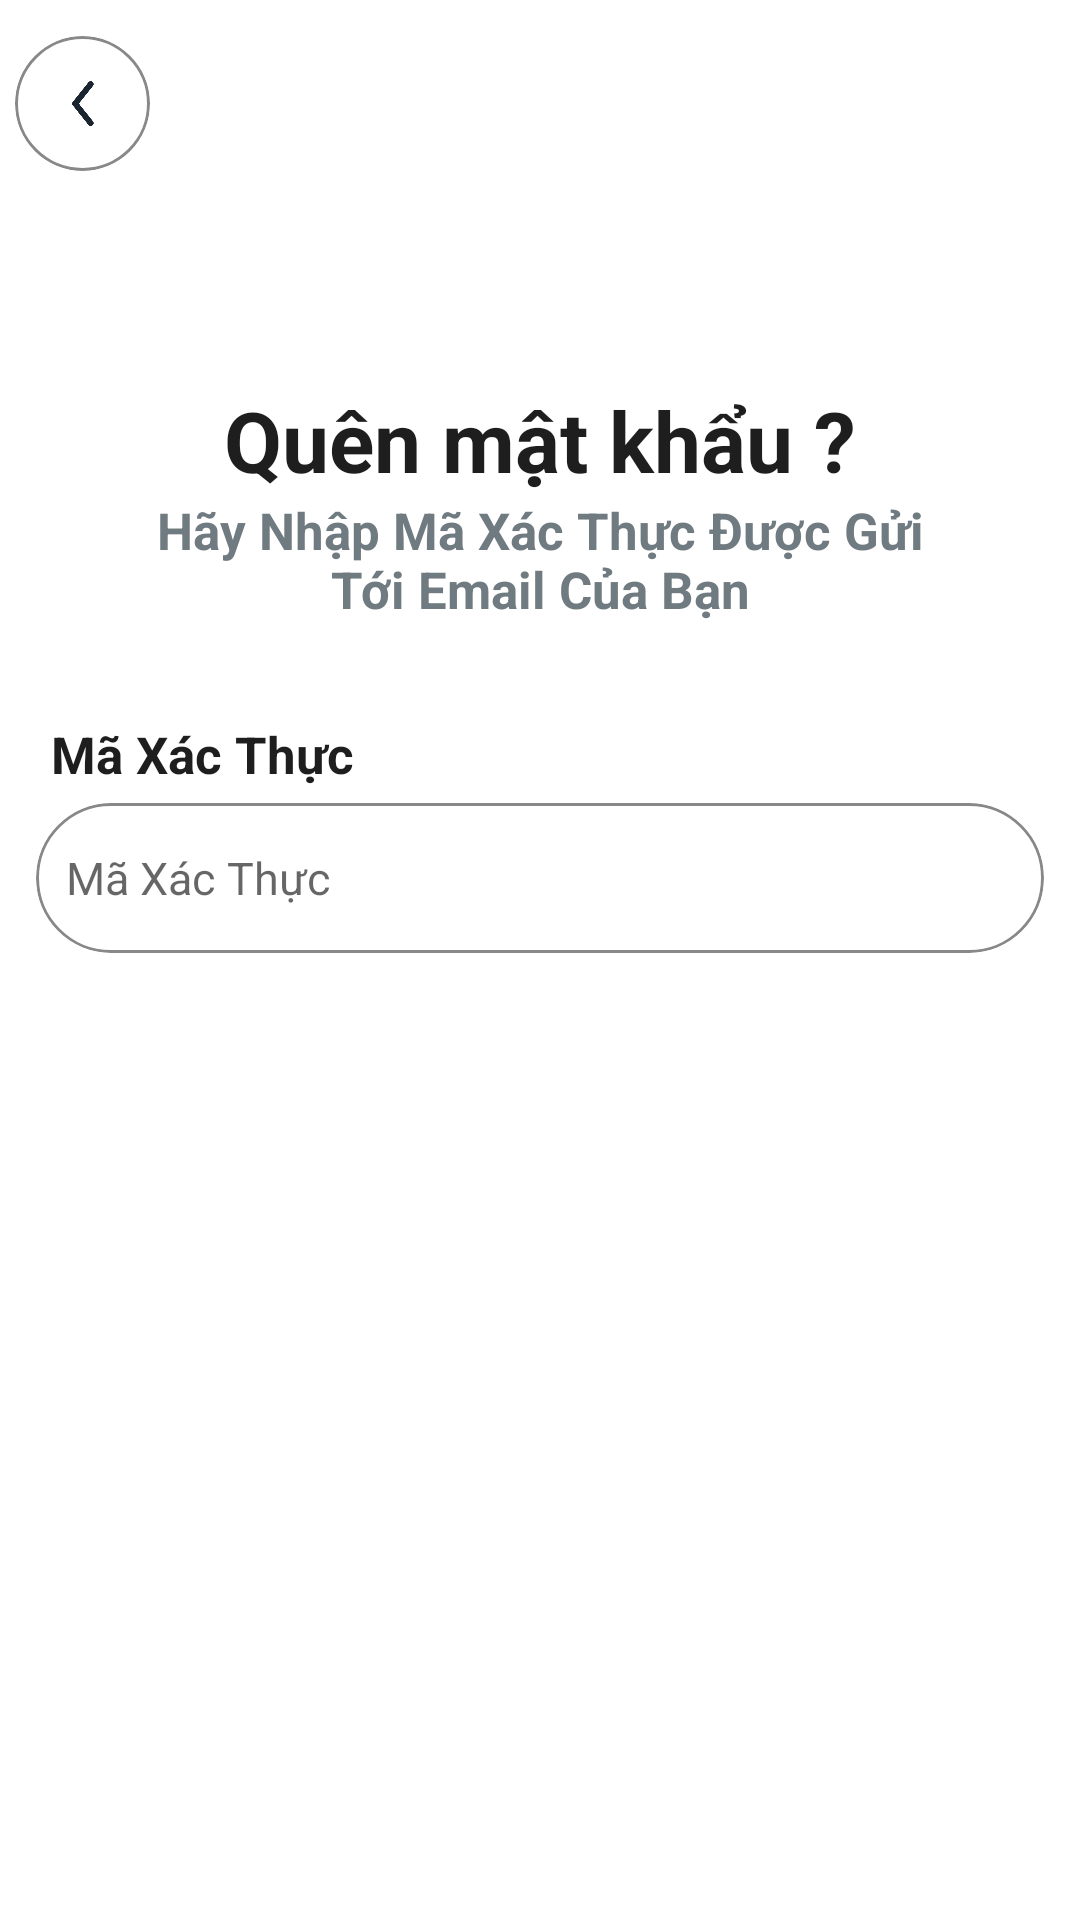

Icon bounding boxes for this 1080w x 1920h phone screenshot, format (x1, y1, x2, y2):
angle left: (15, 36, 150, 171)
